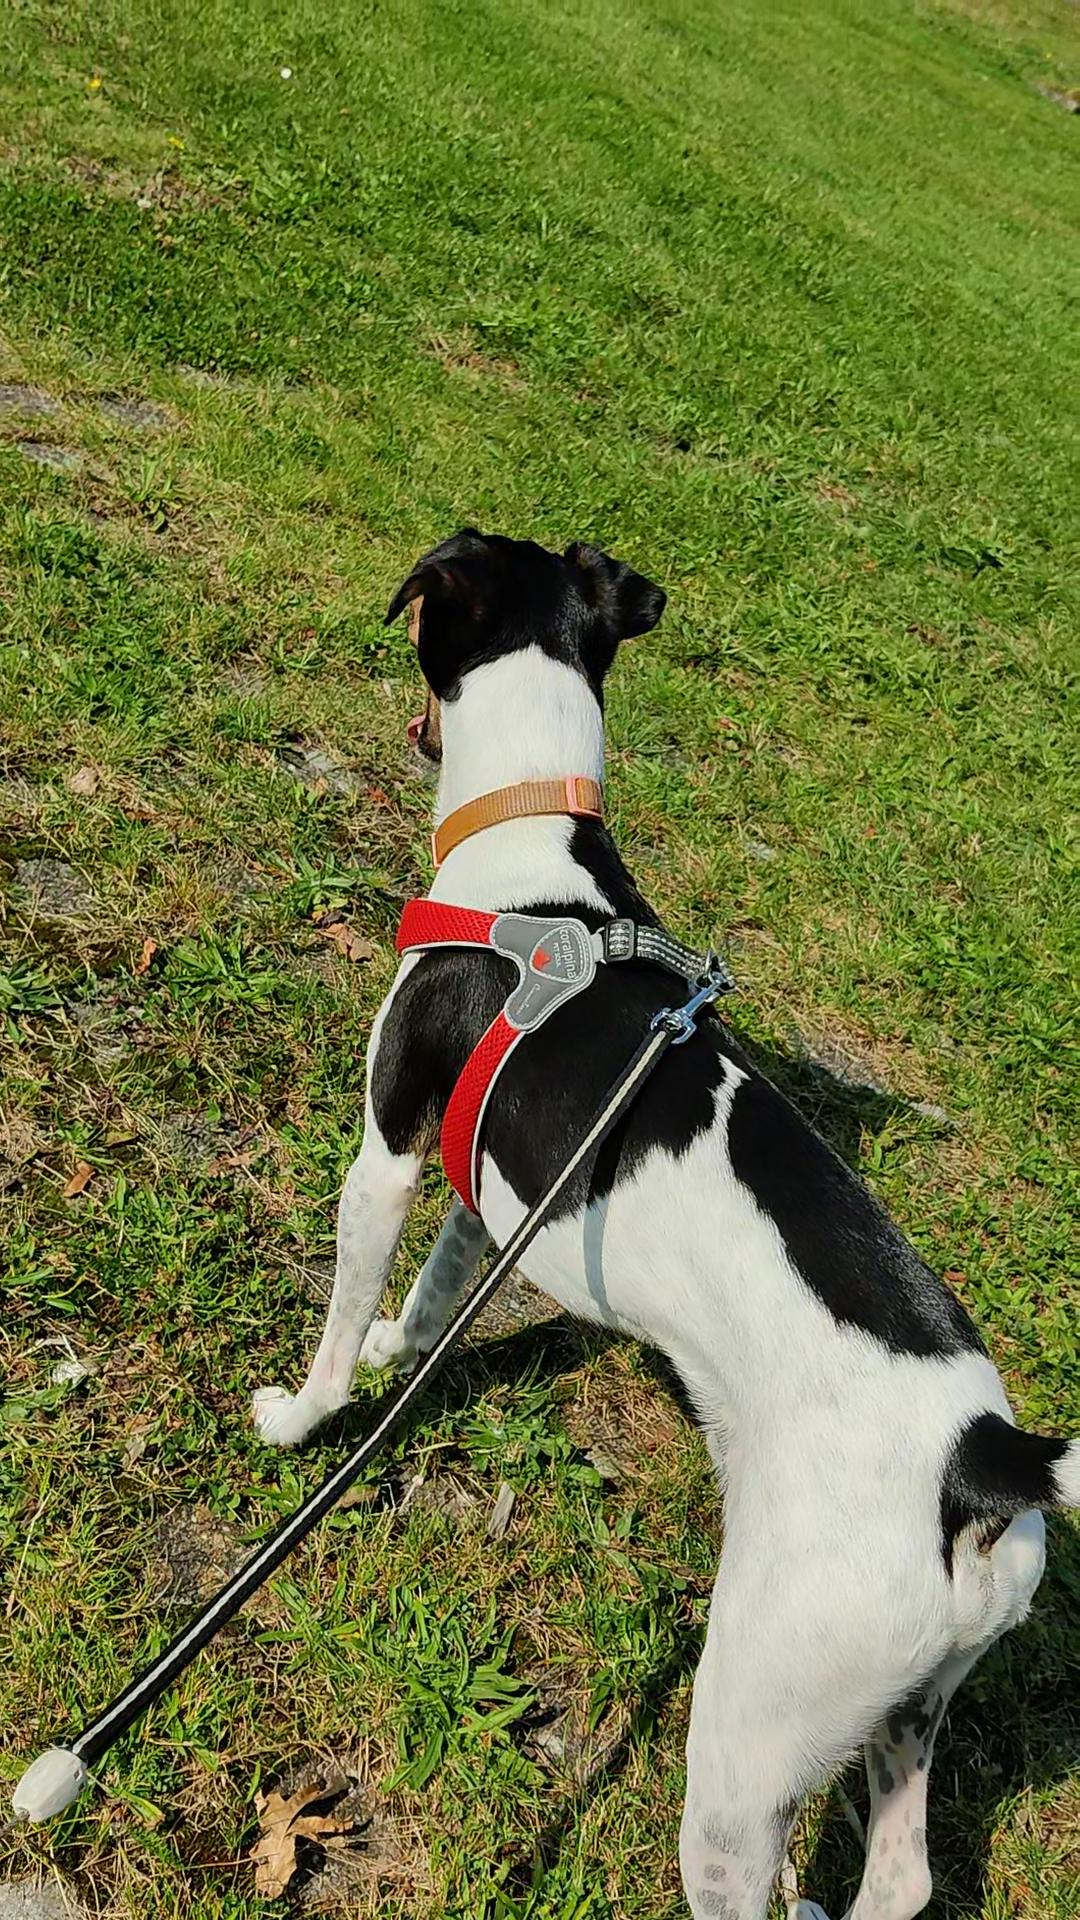Dog: (219, 504, 1079, 1919)
